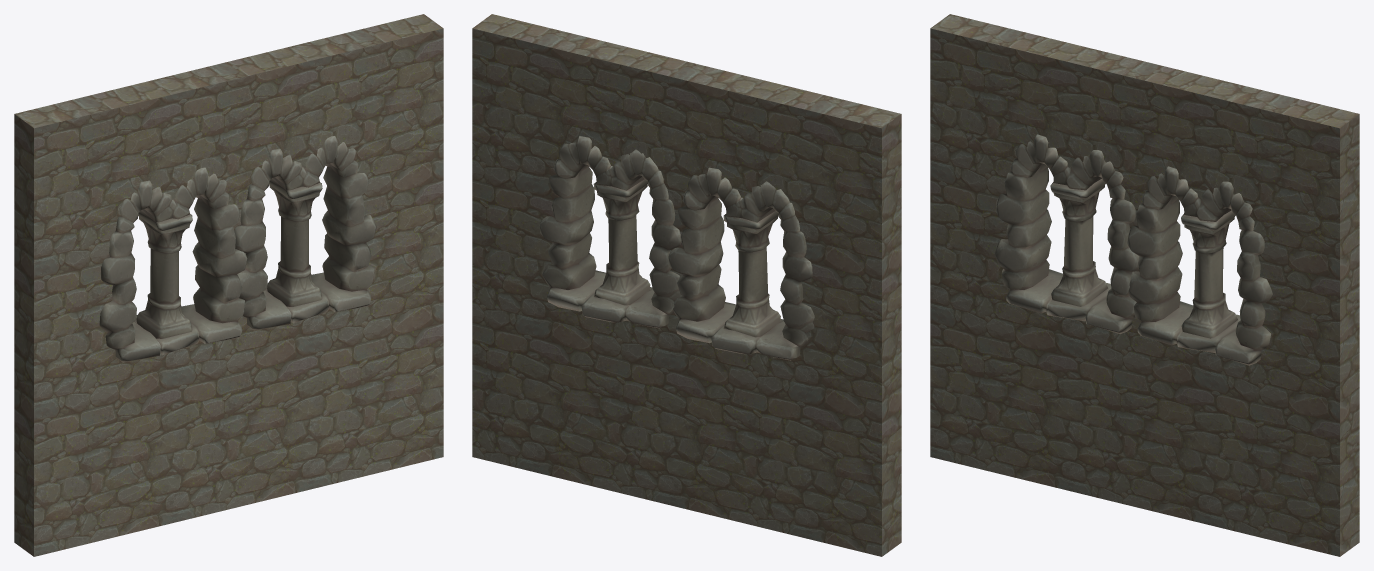
The model's file is SM_FW01_Ruins_Int_Window_B_6x6_01.fbx.
The picture shows the model from 3 angles, left to right: view 1: azimuth 30°, elevation 25°; view 2: azimuth 150°, elevation 25°; view 3: azimuth 330°, elevation 25°; orthographic projection.
Parts seen in each view (by area): view 1: SM_FW01_Ruins_Int_Window_B_6x6_01, SM_FW01_Ruins_Int_Window_B_6x6_01_LOD0; view 2: SM_FW01_Ruins_Int_Window_B_6x6_01, SM_FW01_Ruins_Int_Window_B_6x6_01_LOD0; view 3: SM_FW01_Ruins_Int_Window_B_6x6_01, SM_FW01_Ruins_Int_Window_B_6x6_01_LOD0.
Boxes of the visible parts, <box> form: SM_FW01_Ruins_Int_Window_B_6x6_01: <box>14,14,443,556</box>; SM_FW01_Ruins_Int_Window_B_6x6_01_LOD0: <box>99,136,376,362</box>; SM_FW01_Ruins_Int_Window_B_6x6_01: <box>472,14,901,556</box>; SM_FW01_Ruins_Int_Window_B_6x6_01_LOD0: <box>540,136,814,360</box>; SM_FW01_Ruins_Int_Window_B_6x6_01: <box>930,14,1359,556</box>; SM_FW01_Ruins_Int_Window_B_6x6_01_LOD0: <box>994,134,1272,365</box>.
Size of what is drawn, in the model's own units: 6 by 6 by 0.9997.
